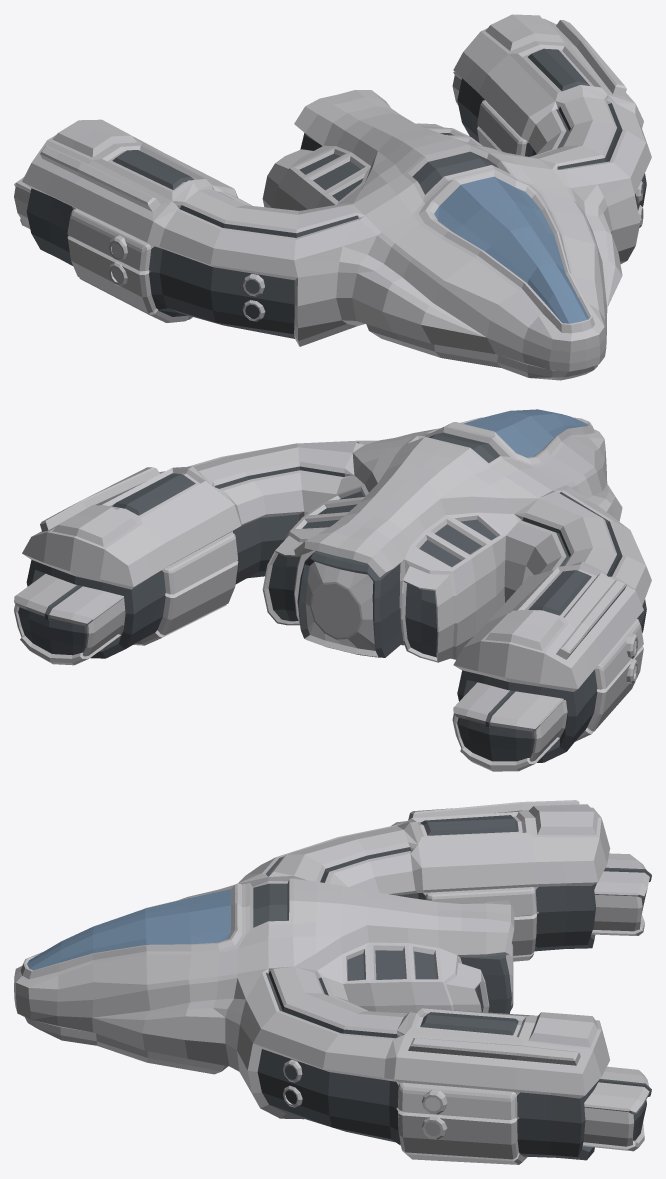
The model's file is Fighter_08_Body.fbx.
3 views of the same model, one above another, from view 1: azimuth 30°, elevation 25°; view 2: azimuth 150°, elevation 25°; view 3: azimuth 270°, elevation 25° (orthographic).
Parts seen in each view (by area): view 1: Fighter_08_Body; view 2: Fighter_08_Body; view 3: Fighter_08_Body.
Boxes of the visible parts, x1,y1,x2,y2 form: Fighter_08_Body: (14,14,651,380); Fighter_08_Body: (14,409,651,771); Fighter_08_Body: (14,800,651,1164).
Bounding box in the file's own units: 1805 × 524 × 1797.
3 materials, 3 textured.
